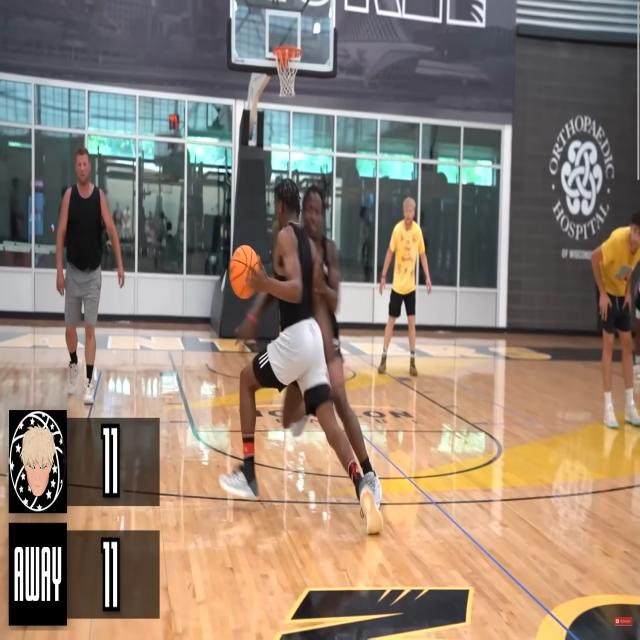Basketball: (228, 245, 262, 298)
Basketball Rim: (273, 46, 302, 97)
Player: (217, 178, 383, 538), (302, 184, 382, 506), (54, 146, 125, 406), (591, 215, 640, 438), (379, 196, 432, 379)
